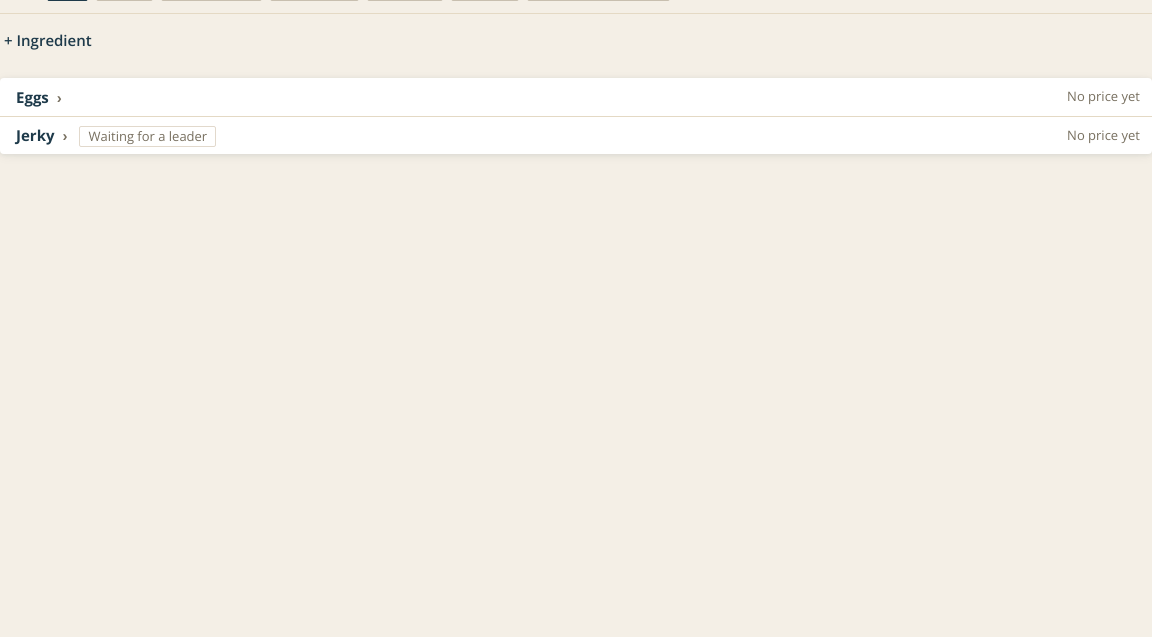
Ingredients tab — add an ingredient › Scout_AsksForAnIngredient_AndIsToldALeaderWillCheckIt
Click the button "+ Ingredient" at (48, 40), box [0, 18, 96, 62]
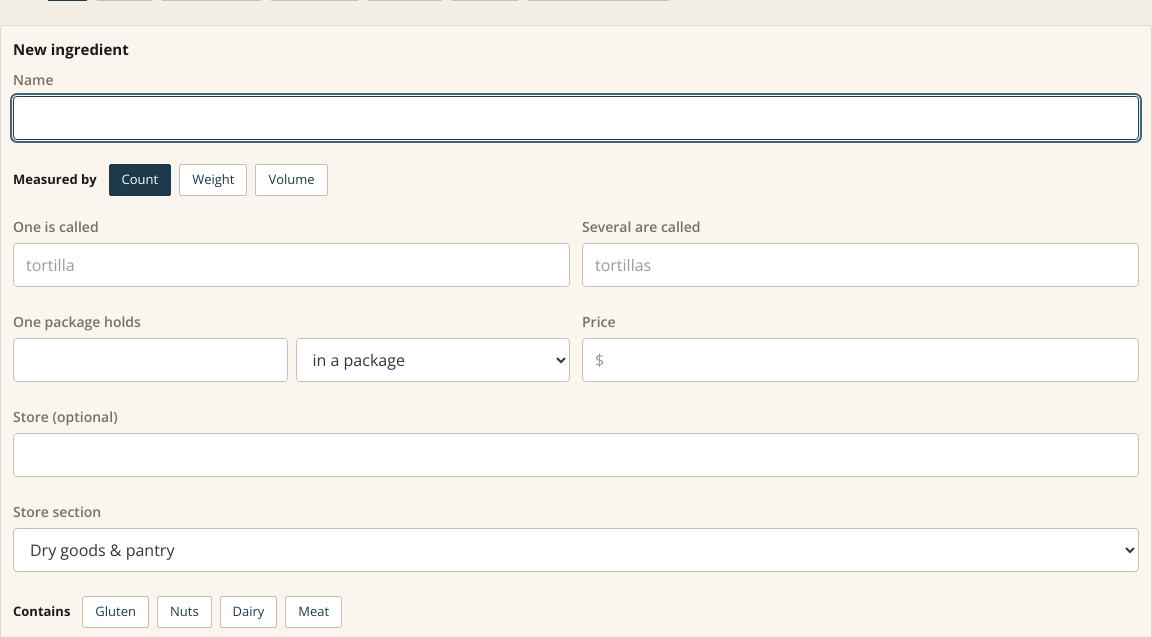
Type "Cookies" into the field labelled "Name" at (576, 118), box [13, 96, 1139, 140]
Type "cookie" into the field labelled "One is called" at (292, 264), box [13, 242, 570, 286]
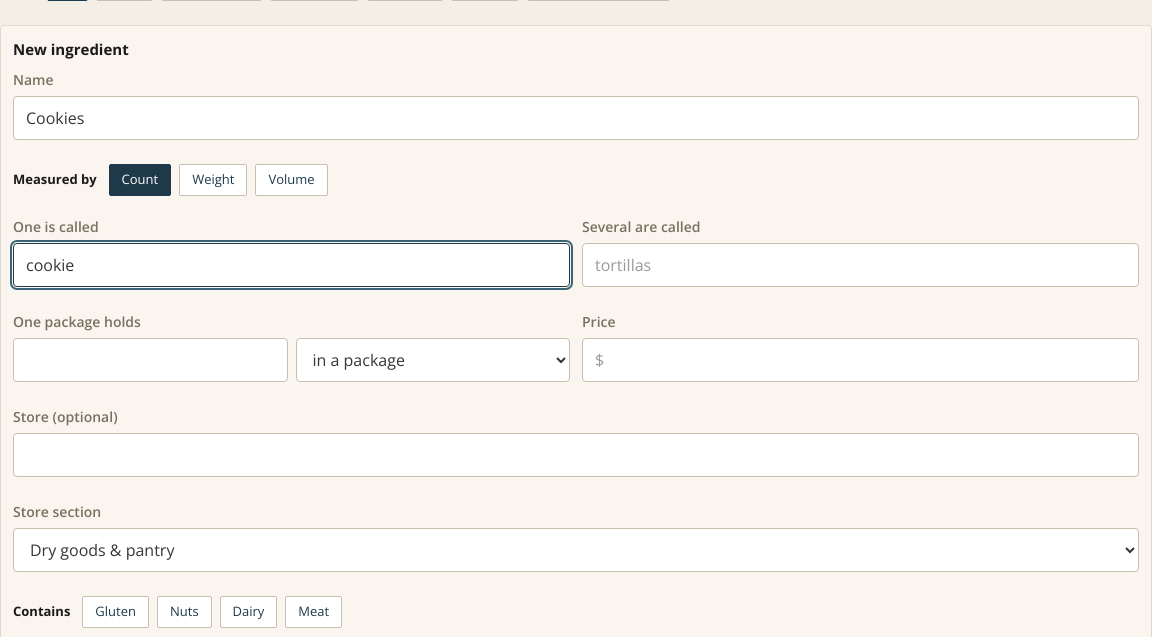
Type "cookies" into the field labelled "Several are called" at (860, 264), box [582, 242, 1139, 286]
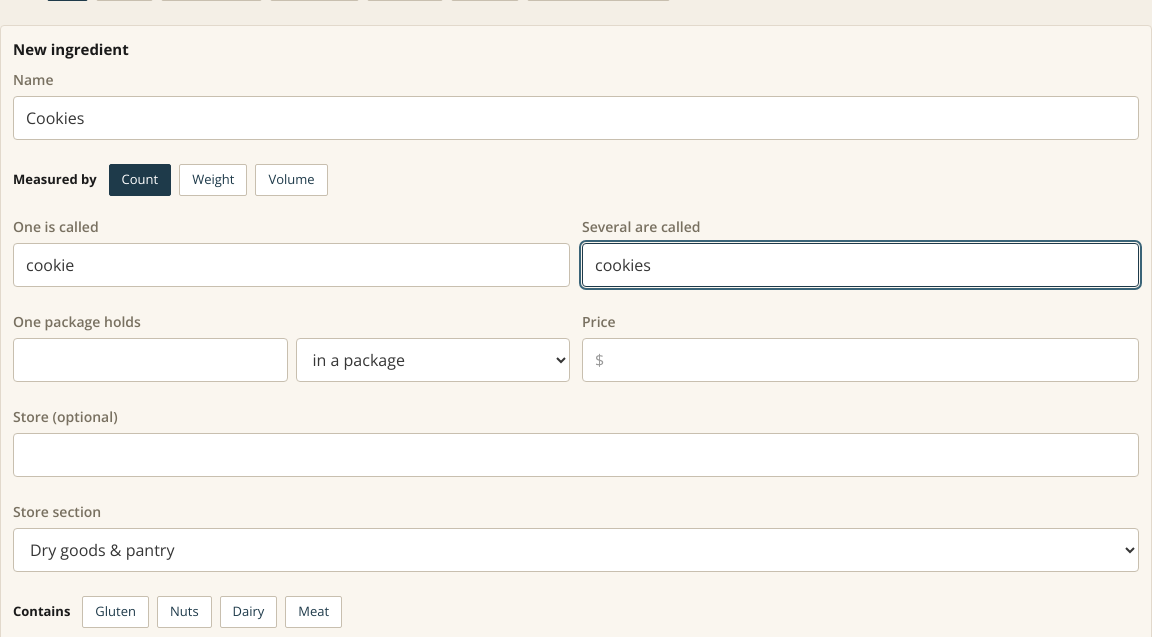
Type "36" into the field labelled "One package holds" at (150, 360), box [13, 338, 288, 382]
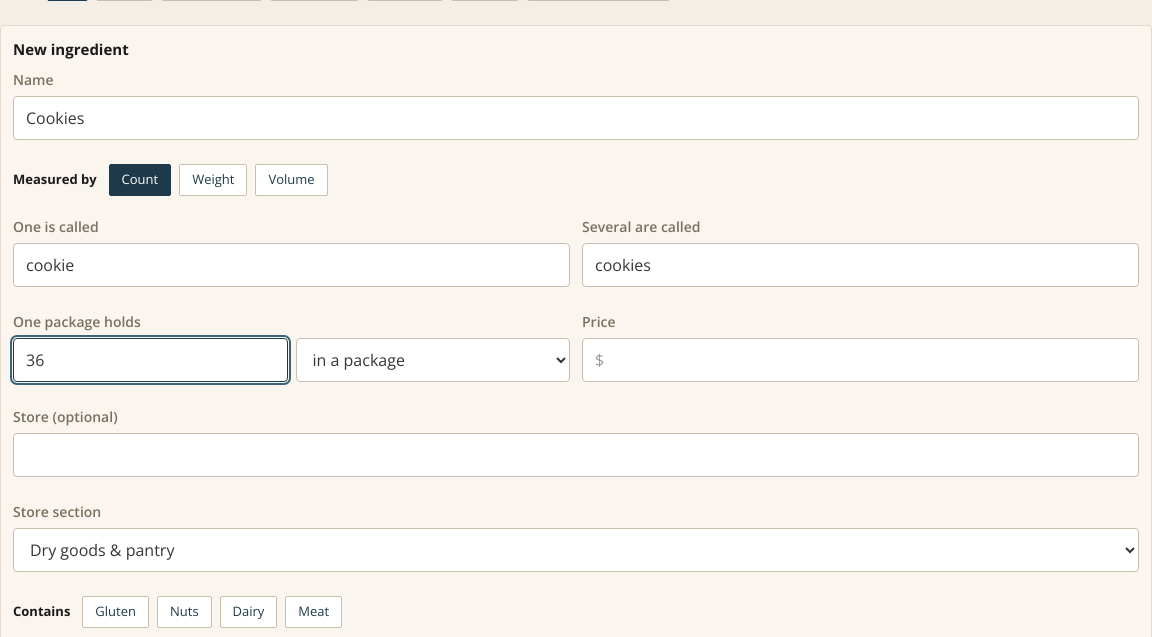
Type "4.29" into the field labelled "Price" at (860, 360), box [582, 338, 1139, 382]
(page scrolled)
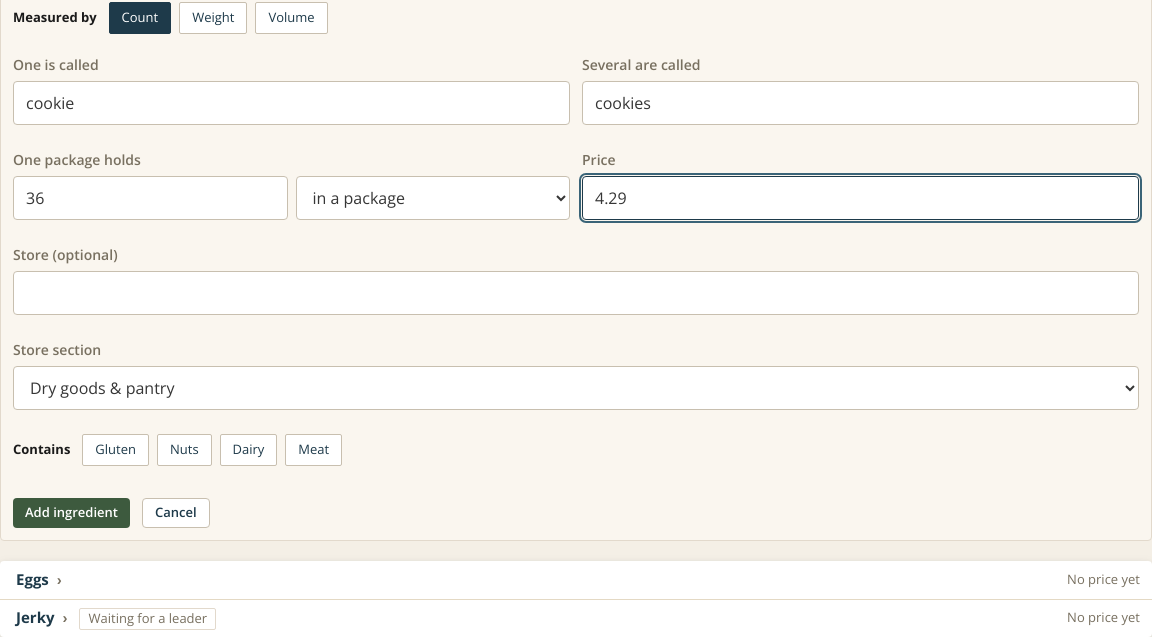
Now the dropdown labelled "Store section" shows "Dry goods & pantry", box [13, 366, 1139, 410]
Click the button "Add ingredient" at (72, 512), box [13, 498, 130, 528]
(page scrolled)
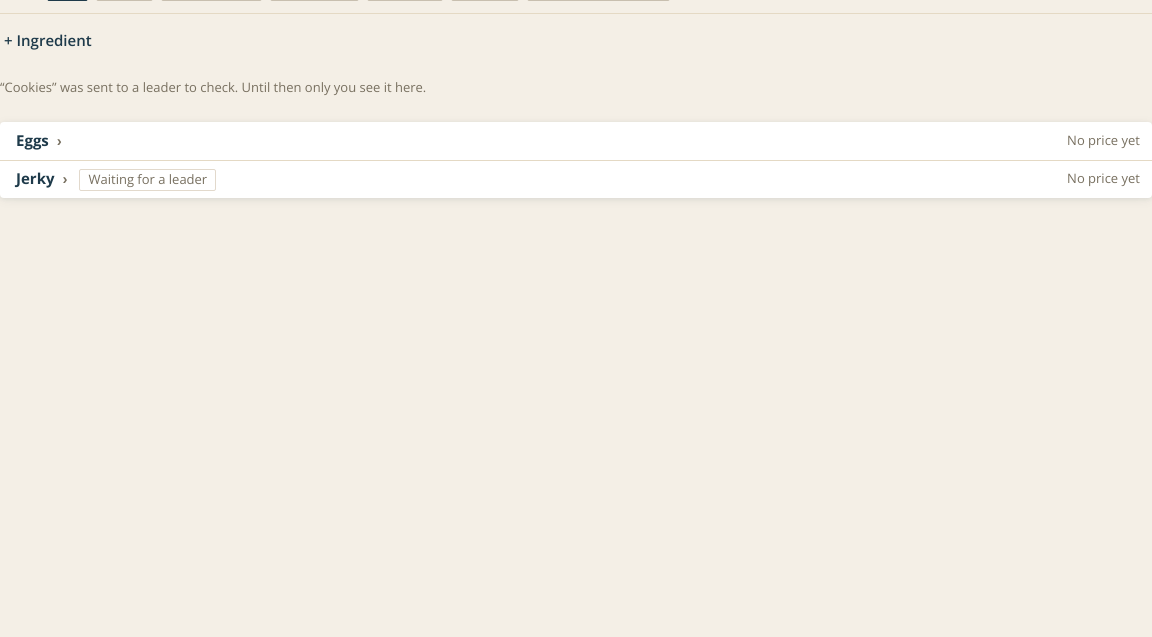
Now the message shows "sent to a leader to check", box [0, 78, 426, 96]
